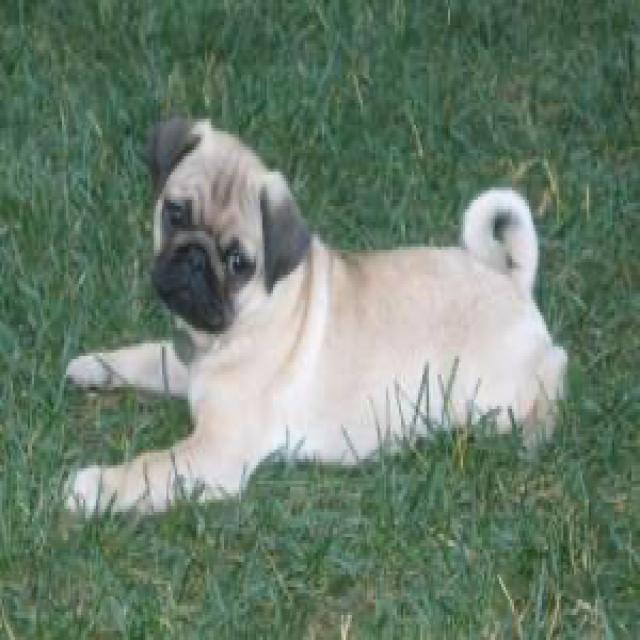dog: (145, 109, 307, 325)
